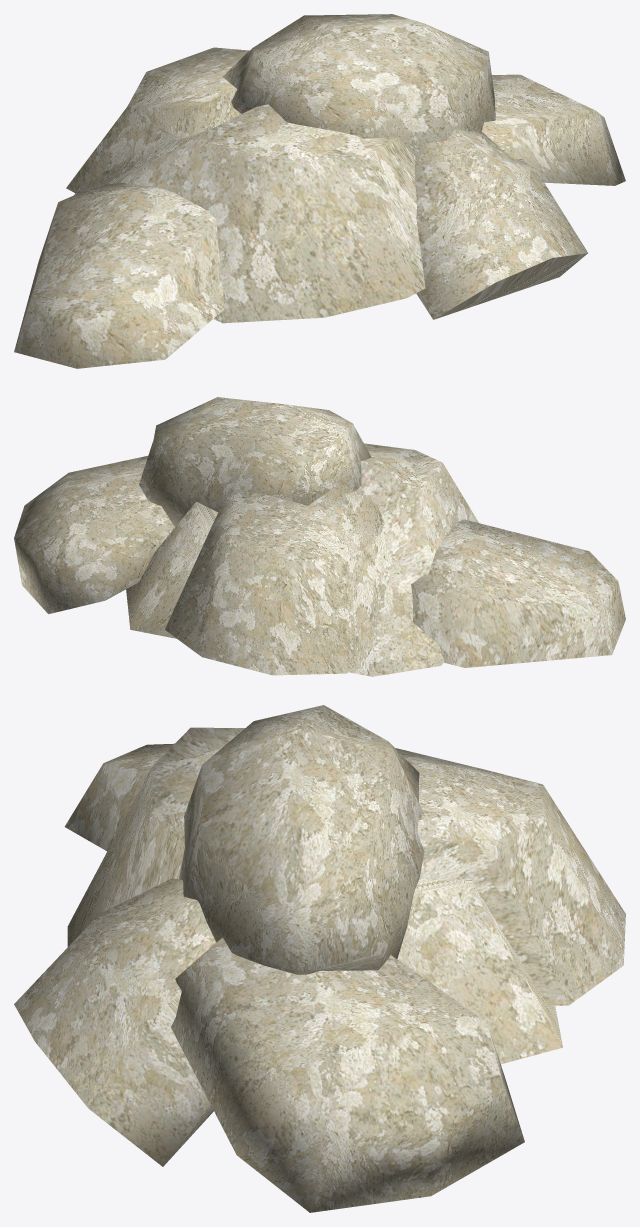
File: rock_formation_a1_l2.fbx
The picture shows the model from 3 angles, top to bottom: view 1: azimuth 30°, elevation 25°; view 2: azimuth 150°, elevation 25°; view 3: azimuth 270°, elevation 25°; orthographic projection. The views are drawn at different scales.
Visible parts, largest first — view 1: mesh_node; view 2: mesh_node; view 3: mesh_node.
Part boxes in pixels (x1,y1,x2,y2): mesh_node: (14, 14, 625, 368); mesh_node: (14, 397, 625, 676); mesh_node: (14, 705, 625, 1212).
Bounding box in the file's own units: 14.03 × 5.28 × 8.91.
